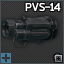AN%5PVS-14 Night Vision Monocular: (0, 0, 64, 64)
